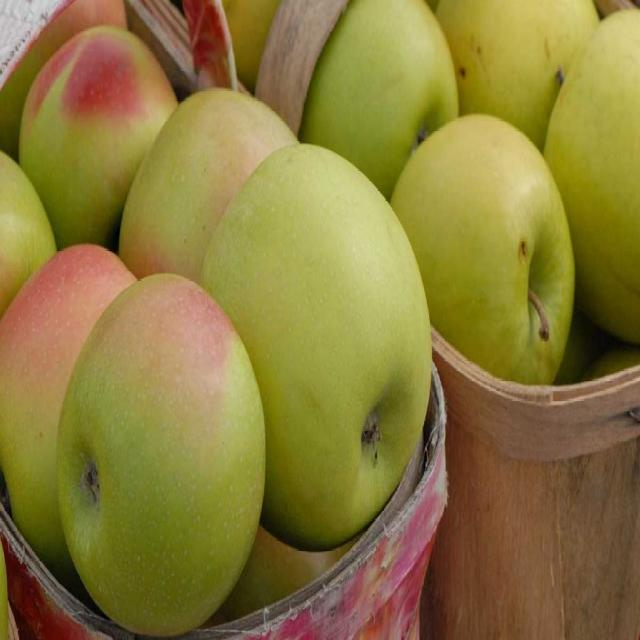Green Apple: (194, 140, 435, 543), (56, 269, 268, 632), (15, 22, 179, 251), (542, 2, 640, 357)
